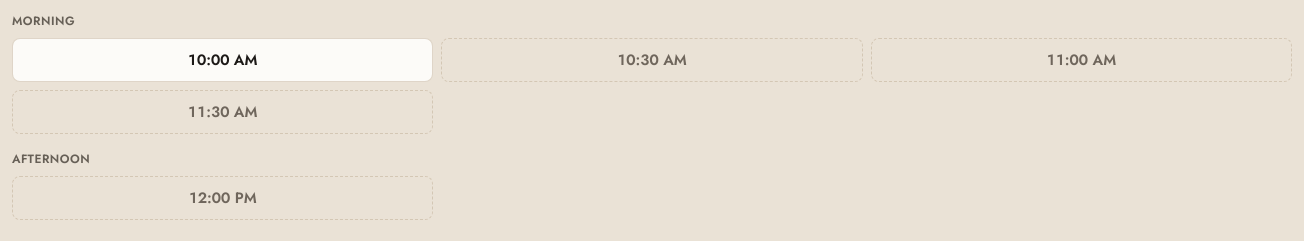
Test: a time that is not on offer › gives each of the server’s reasons its own sentence
Click the button "11:00 AM": x=1081, y=60 [871,38,1292,82]
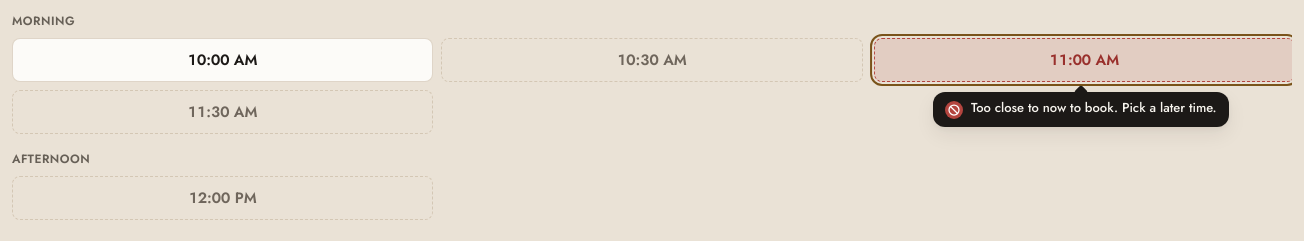
Expected: the tooltip shows "Too close to now to book.", [971,98,1217,117]
Click the button "11:30 AM": x=223, y=112 [12,90,433,134]
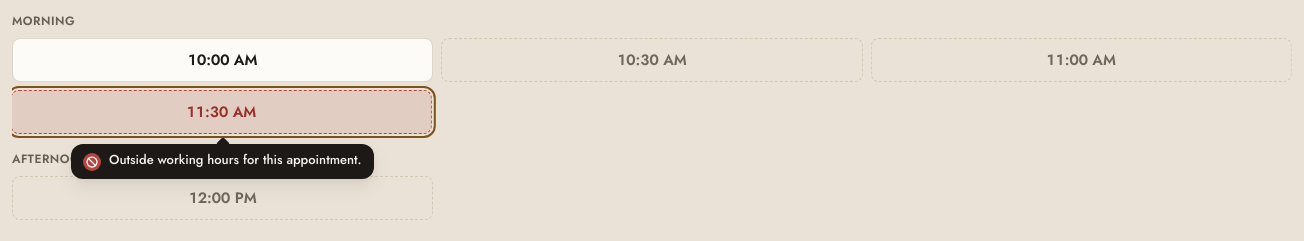
Expected: the tooltip shows "Outside working hours", [109,150,362,169]
// A reason this build has never heard of still gets a sentence.
Click the button "12:00 PM": x=223, y=198 [12,176,433,220]
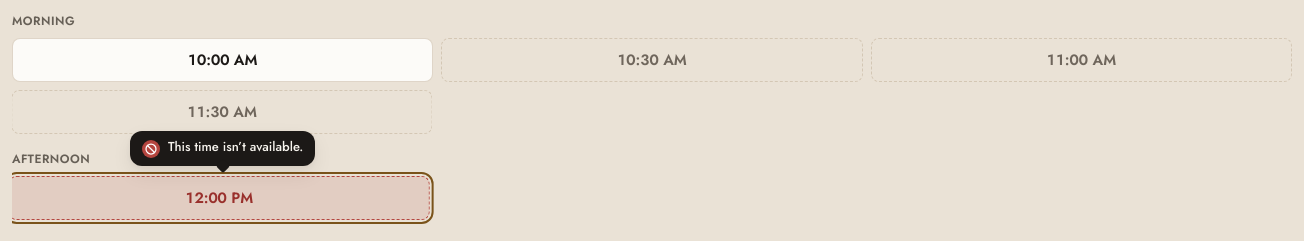
Expected: the tooltip reads "This time isn’t available.", [168,137,304,156]
